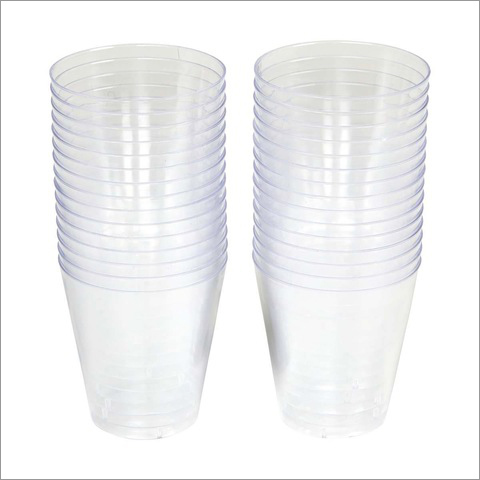plastic_glass: (230, 10, 459, 470), (26, 26, 250, 457)
